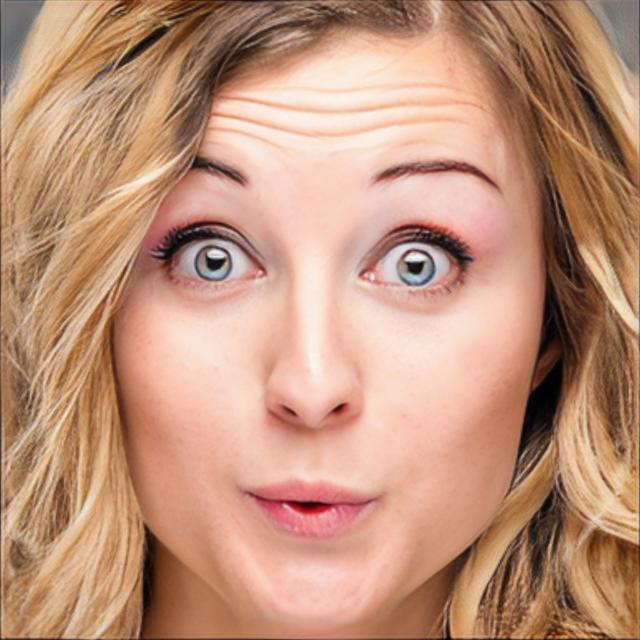surprise: (107, 18, 551, 640)
